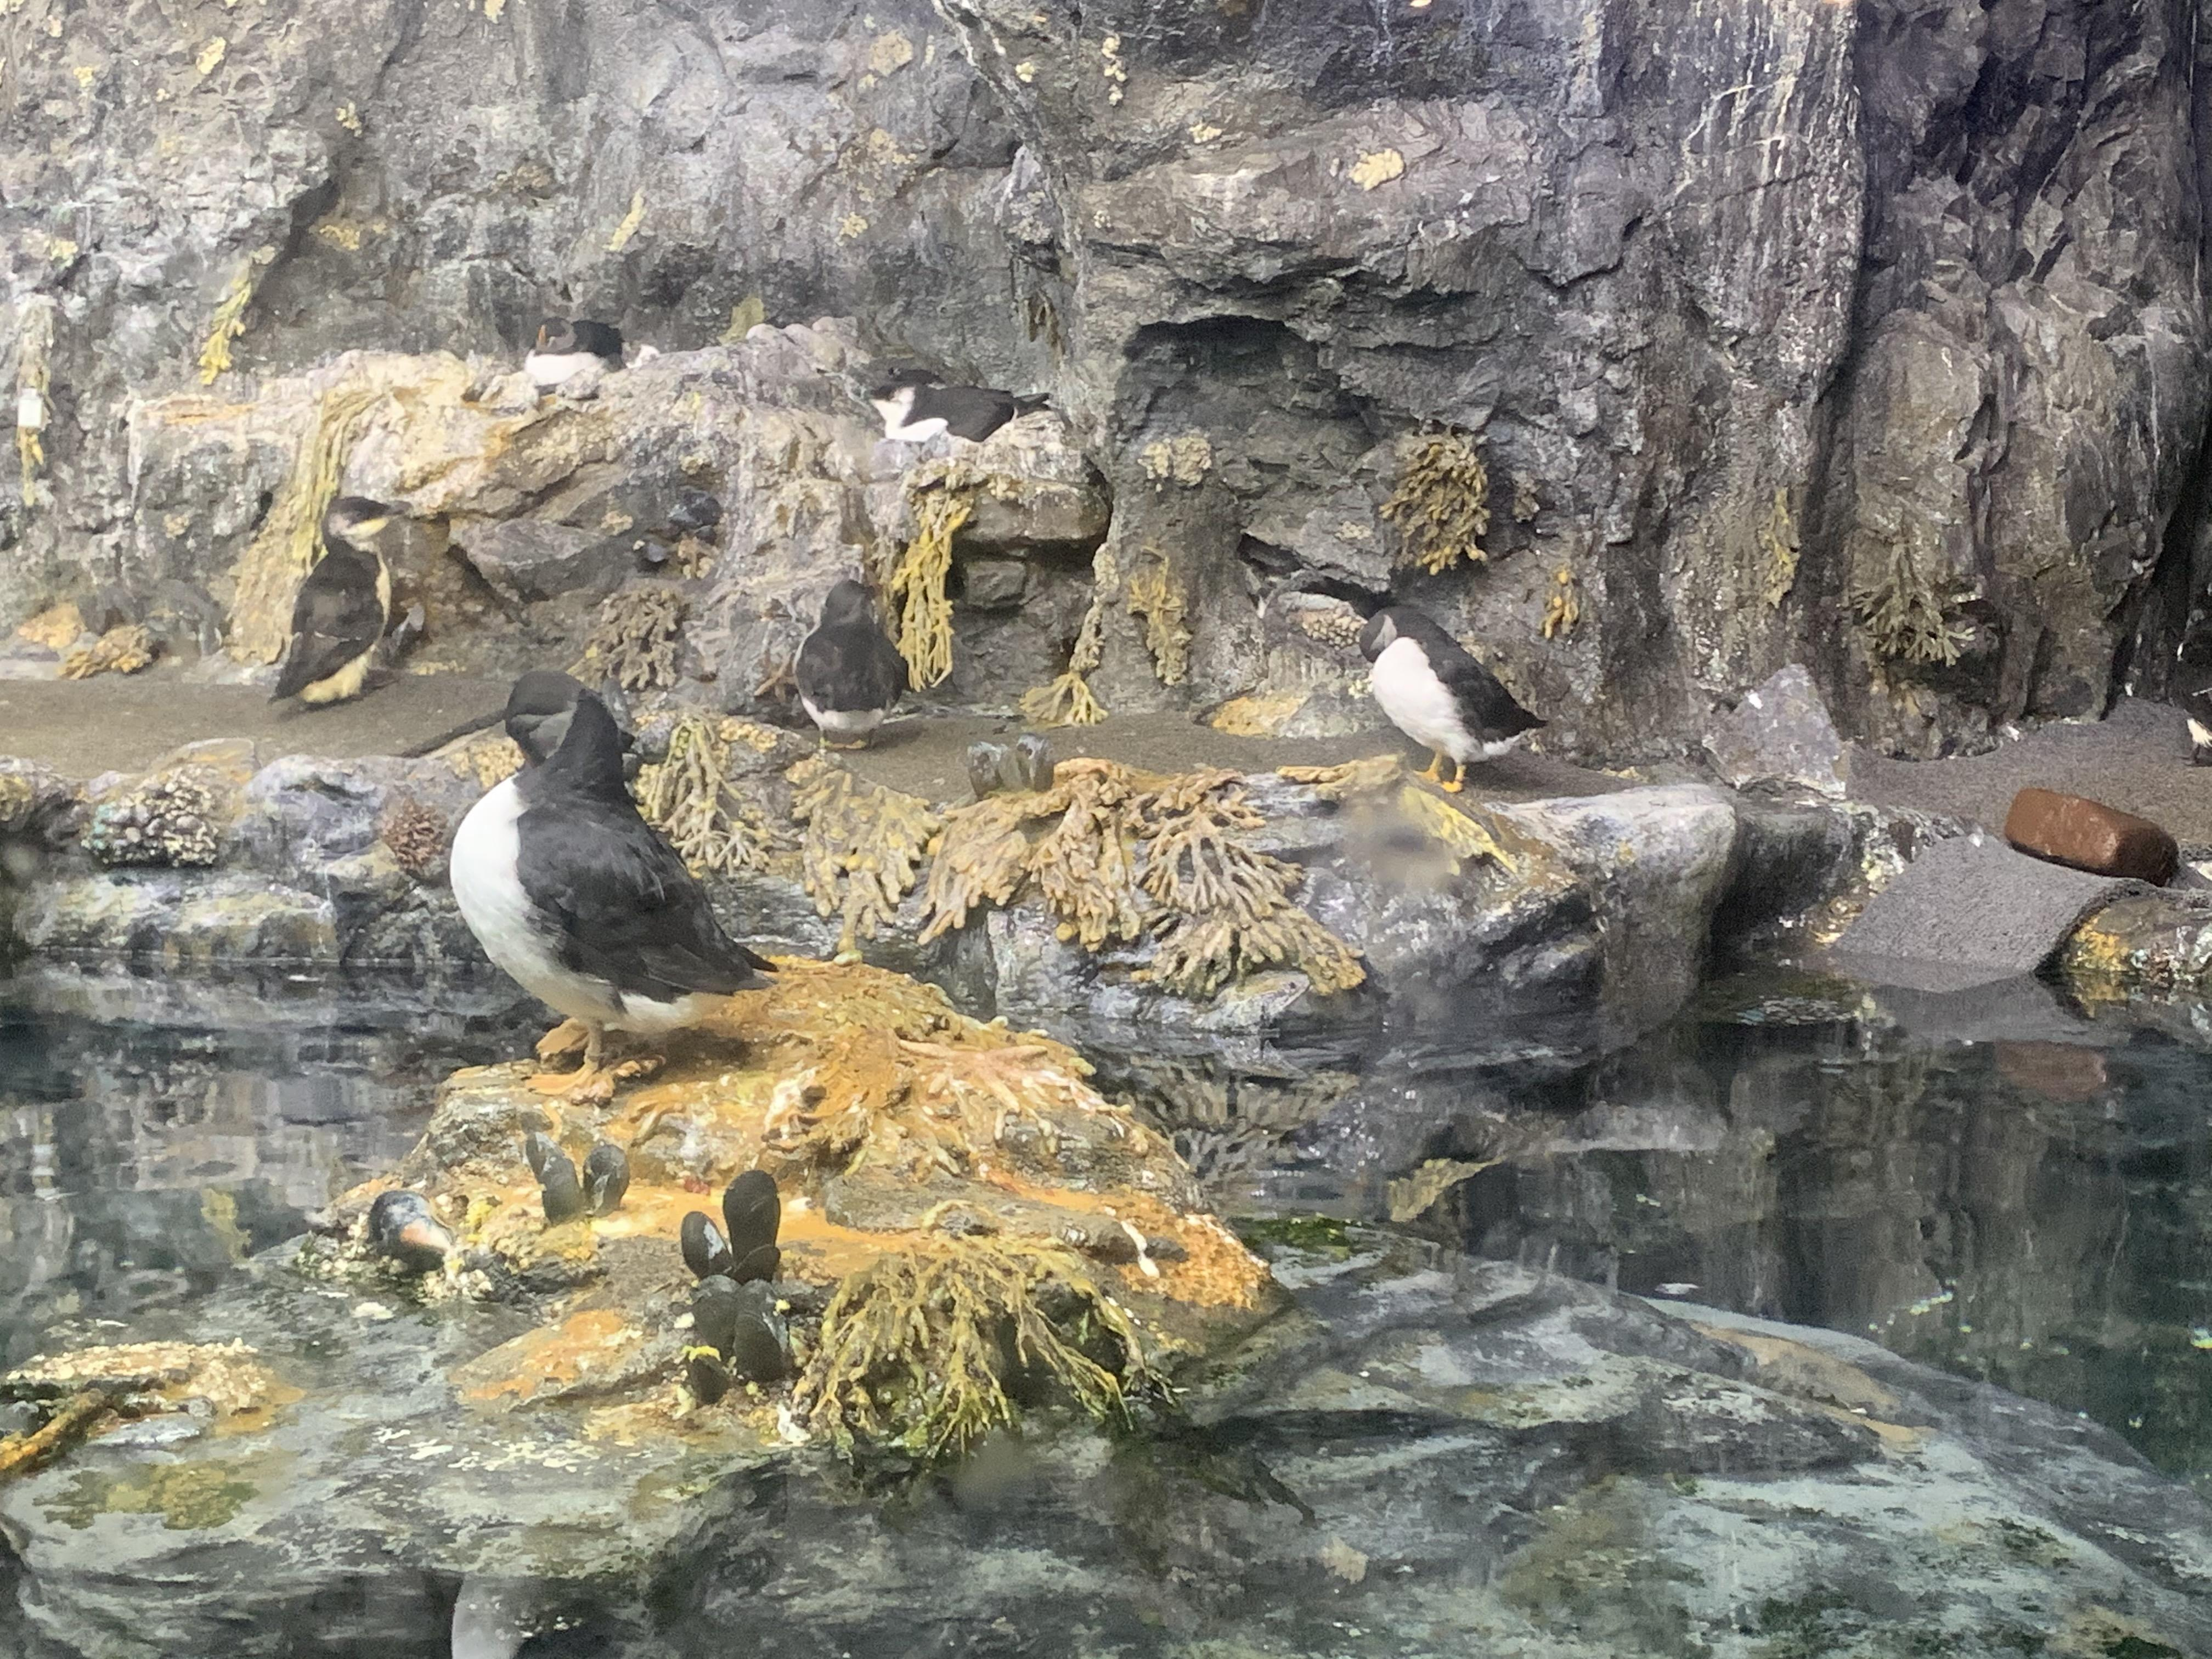puffin: (435, 667, 784, 1101), (1355, 601, 1557, 798), (266, 491, 404, 709), (791, 577, 916, 756), (869, 364, 1052, 448), (348, 1175, 463, 1290), (524, 317, 627, 387)
